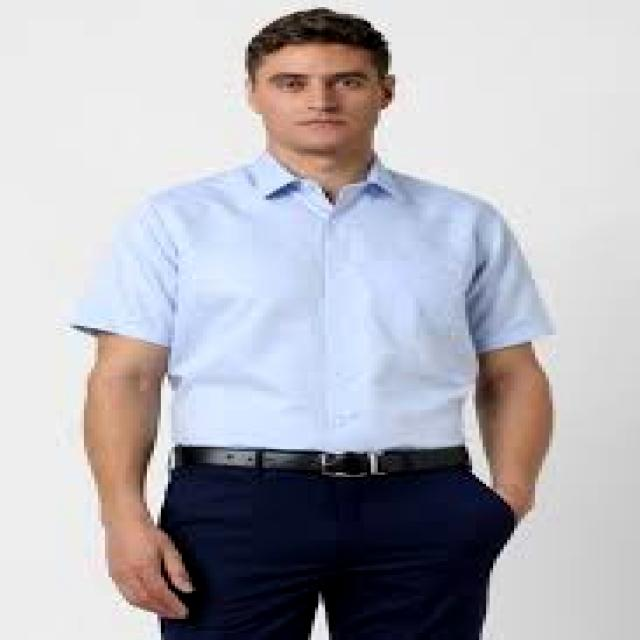face: (249, 45, 395, 153)
lower-wear: (158, 464, 517, 639)
top-wear: (70, 152, 556, 451)
